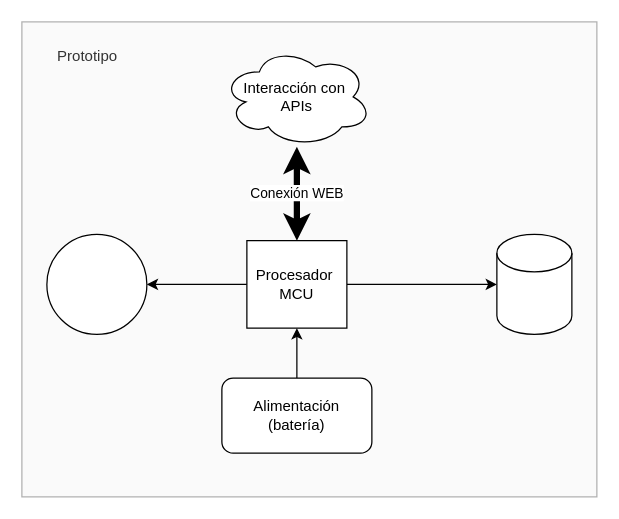
Image size: 619x519. Some labels were removed from this diagram. The shapes that lost their labels are listed below. From the top down, each one's centre as x and y in pixels, then its label:
(96,283): Lector código de barras
(534,283): Stock
